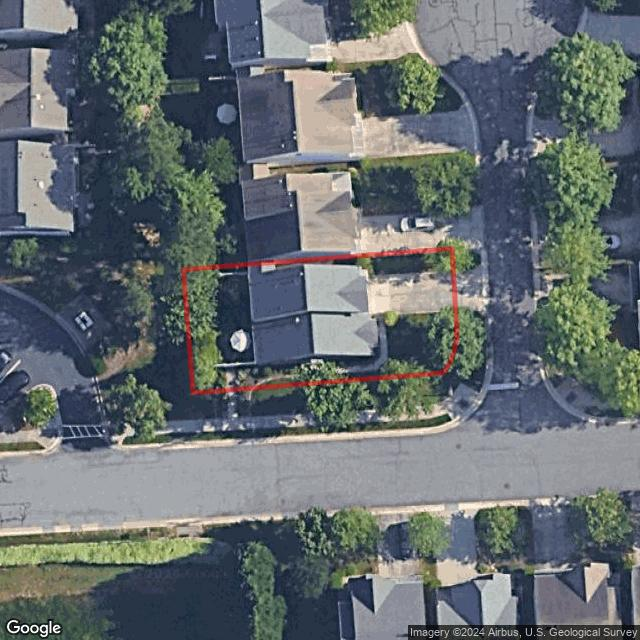Driveway: (367, 271, 455, 314)
Extra-Driveway: (454, 264, 488, 312)
Extra-Lawn: (251, 310, 486, 416), (195, 413, 452, 442), (194, 389, 227, 419), (450, 249, 481, 271)
Extra-Sidewalk: (194, 383, 479, 434)
House: (248, 262, 378, 370)
Lawn: (184, 249, 457, 393)
Other: (231, 330, 251, 352)
Sidewalk: (312, 313, 387, 374)
